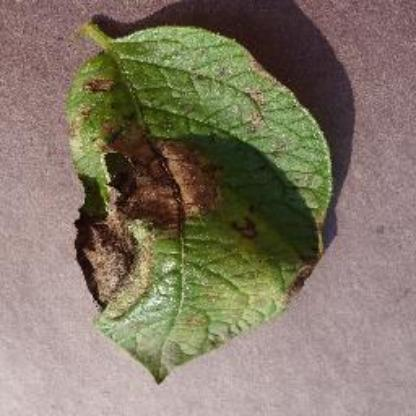Late-Blight: (59, 18, 345, 384)
